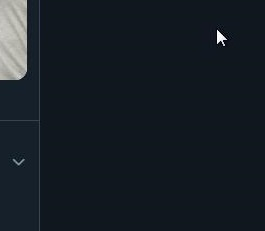cursor: (215, 27, 227, 47)
